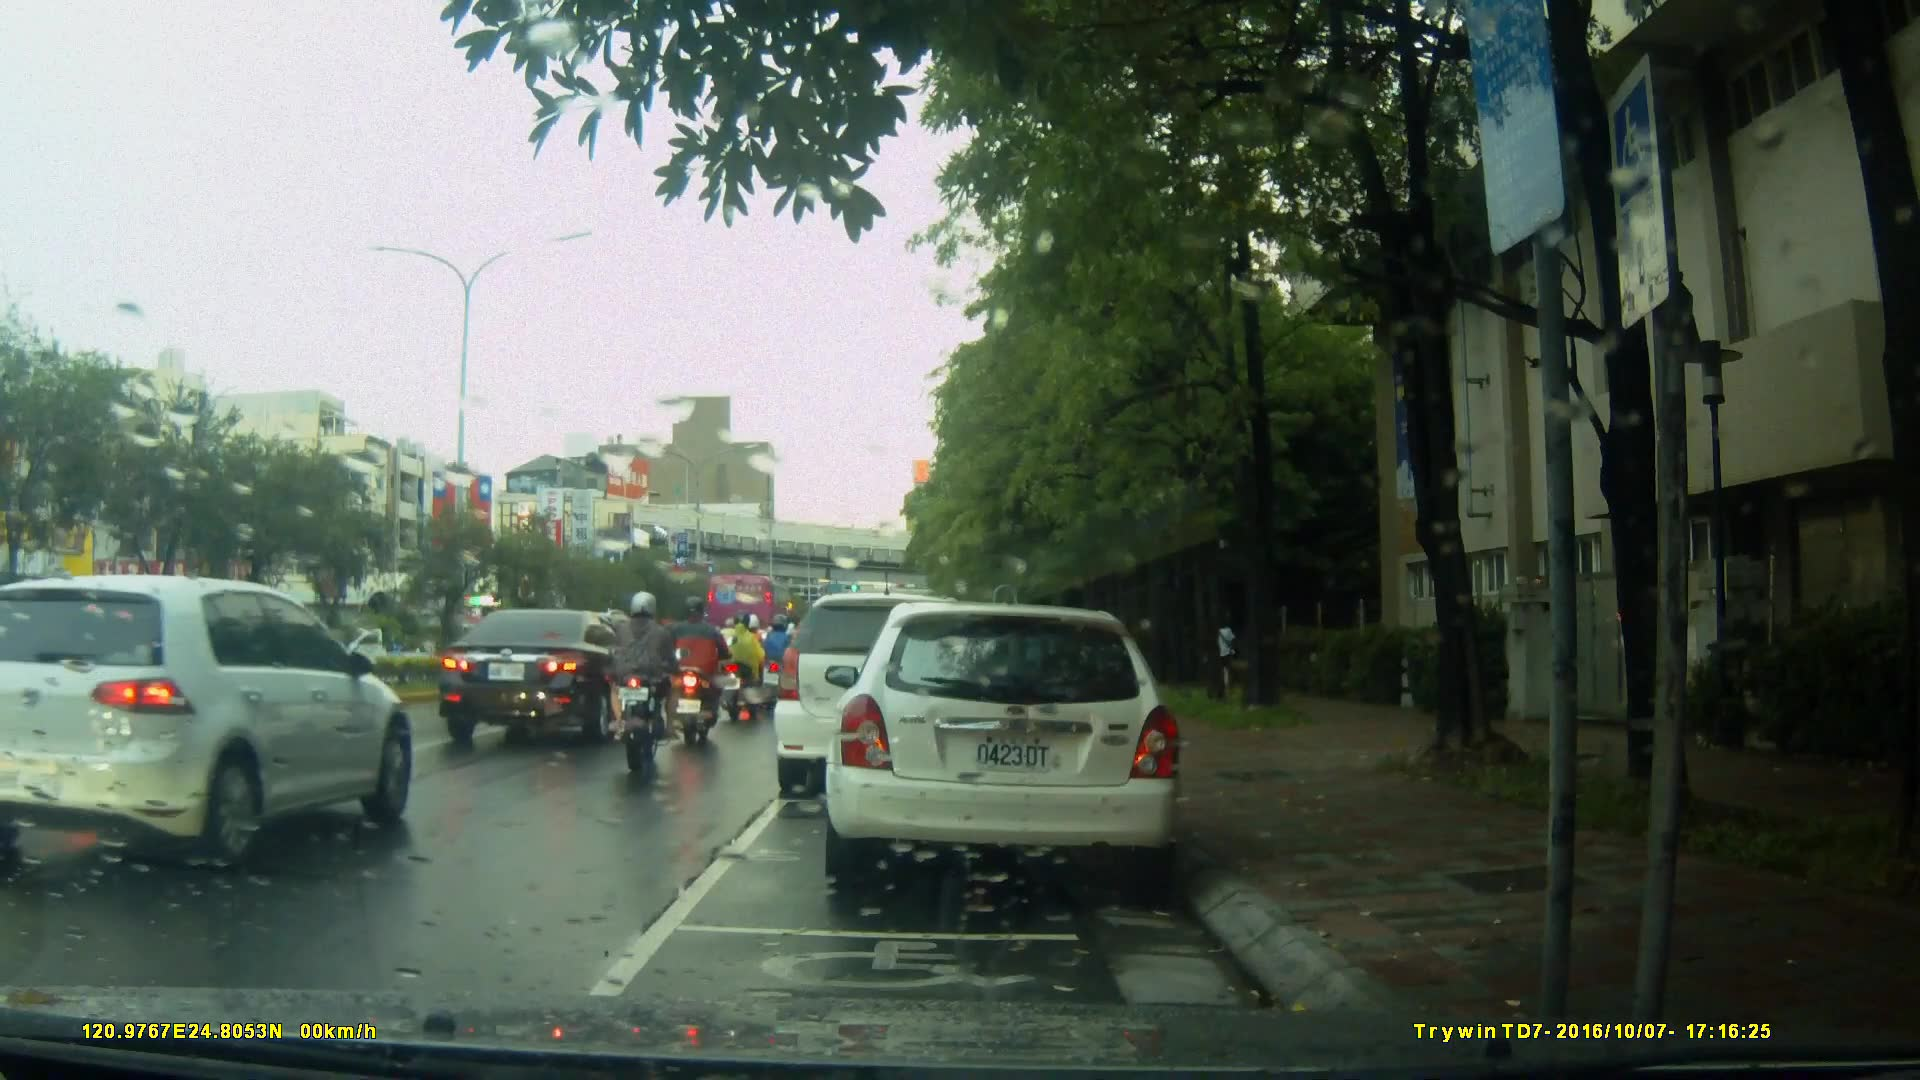pedestrian: (1212, 616, 1240, 695)
rider: (605, 589, 679, 792), (675, 593, 734, 750), (718, 609, 768, 731), (760, 610, 803, 713)
vehicle: (7, 570, 426, 869), (835, 594, 1194, 898), (776, 590, 1026, 784), (438, 606, 665, 753), (703, 573, 794, 648)
